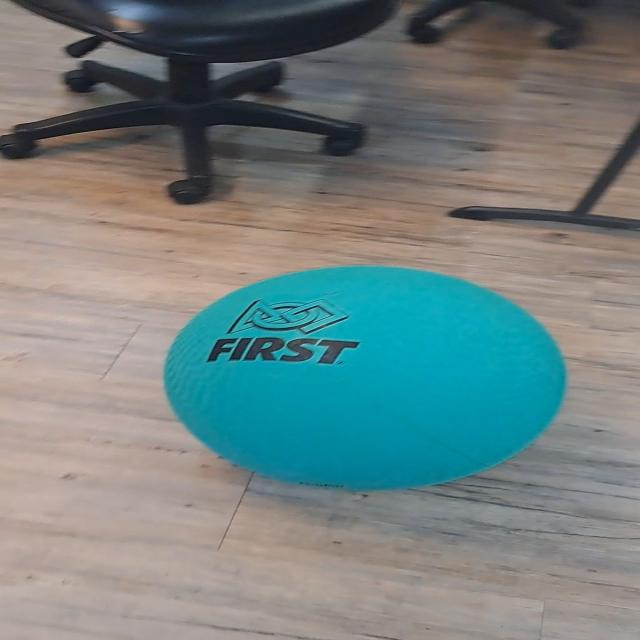ALGAE: (159, 262, 569, 492)
